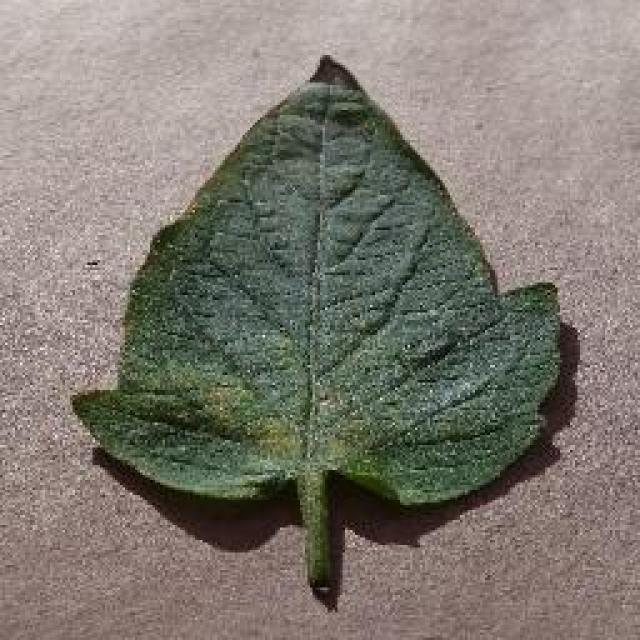Tomato mosaic virus leaf: (67, 52, 565, 518)
